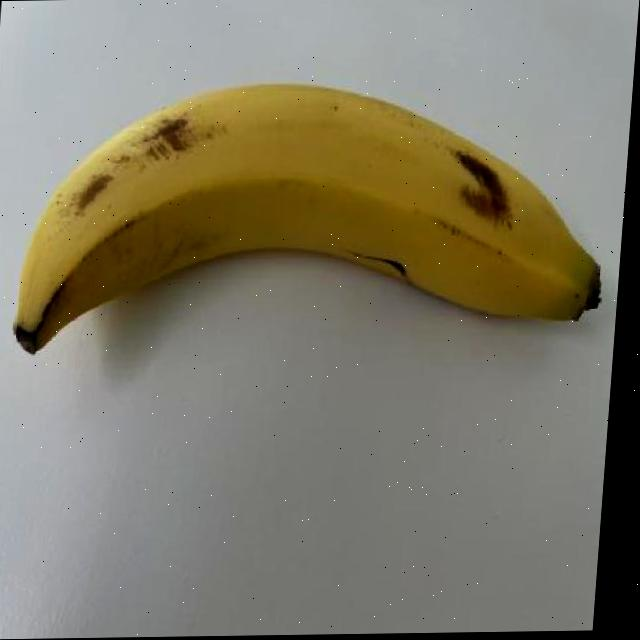banana: (1, 64, 623, 366)
